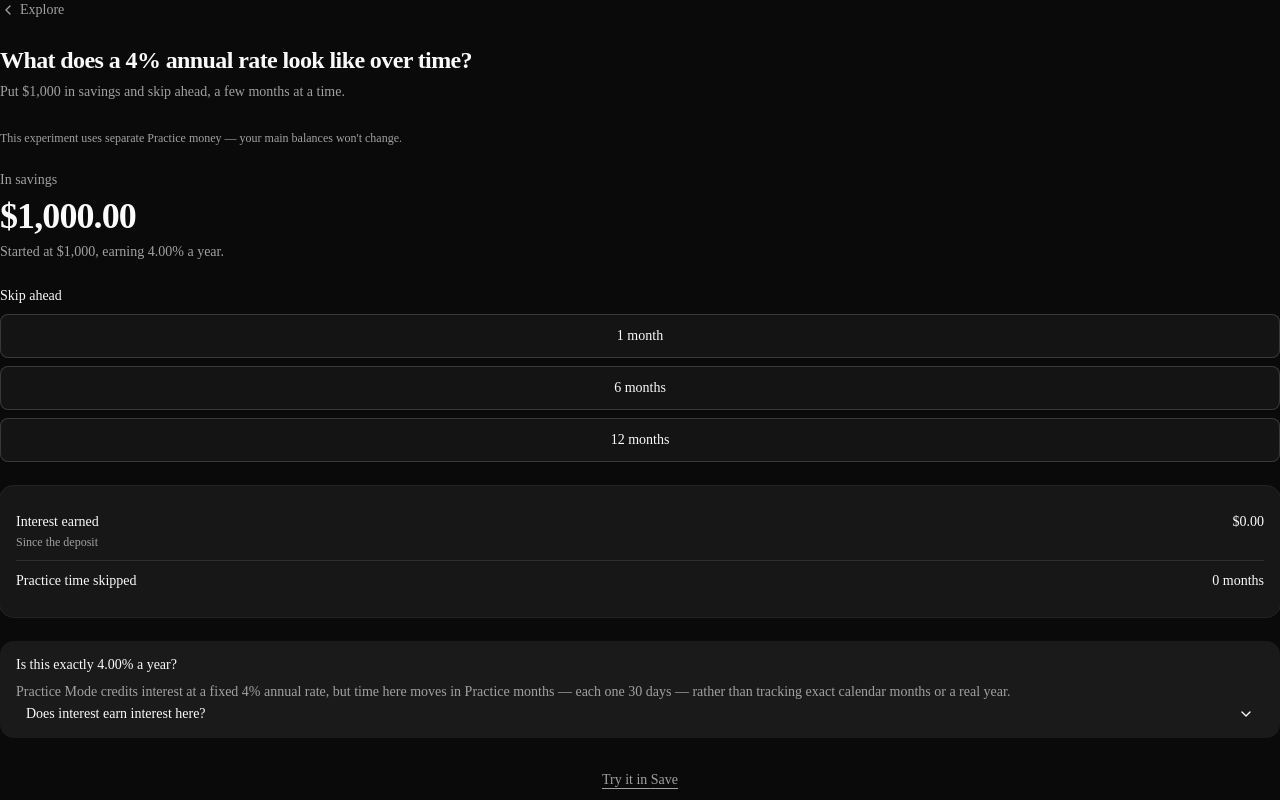
Test: YieldExperiment › twelve months matches the engine's compounding-per-step math
Click the button "12 months" at coordinates (640, 440), box [0, 418, 1279, 462]
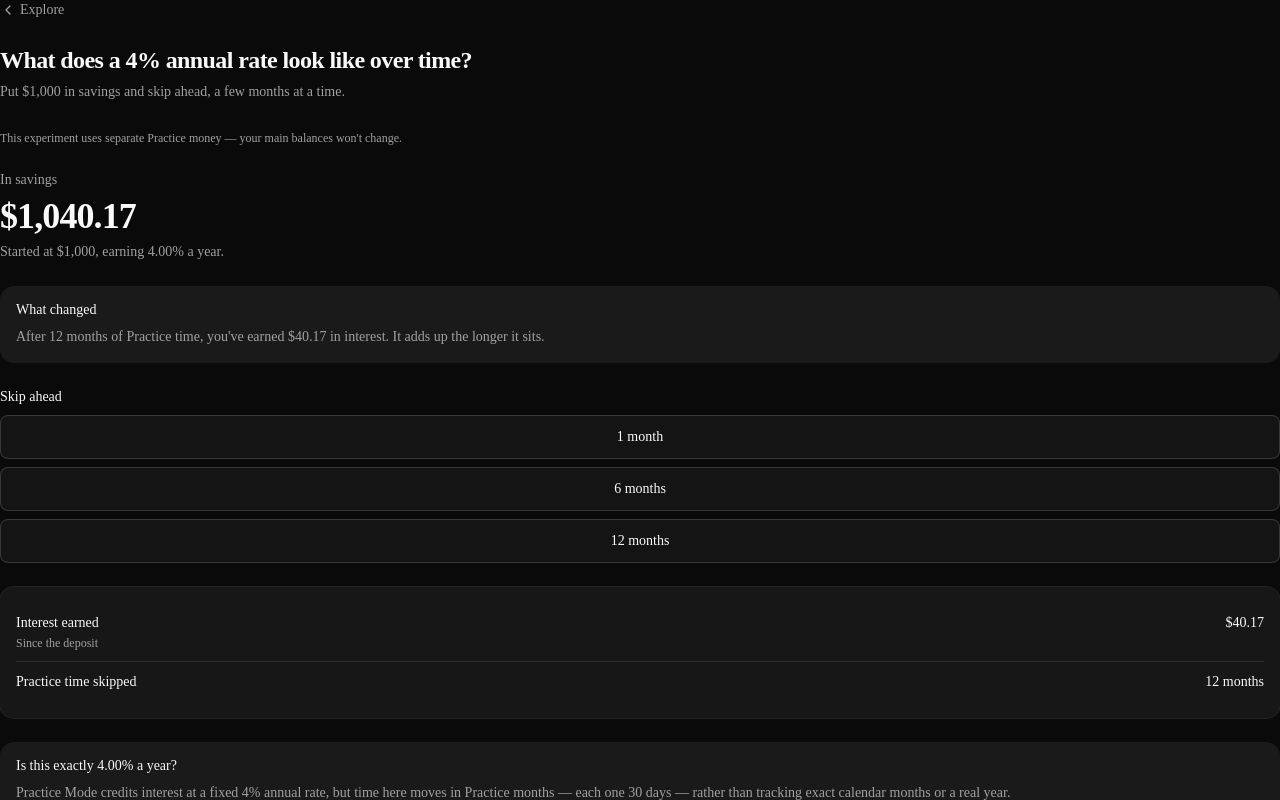
Expected: the text "$1,040.17" is shown, [0, 196, 136, 236]
